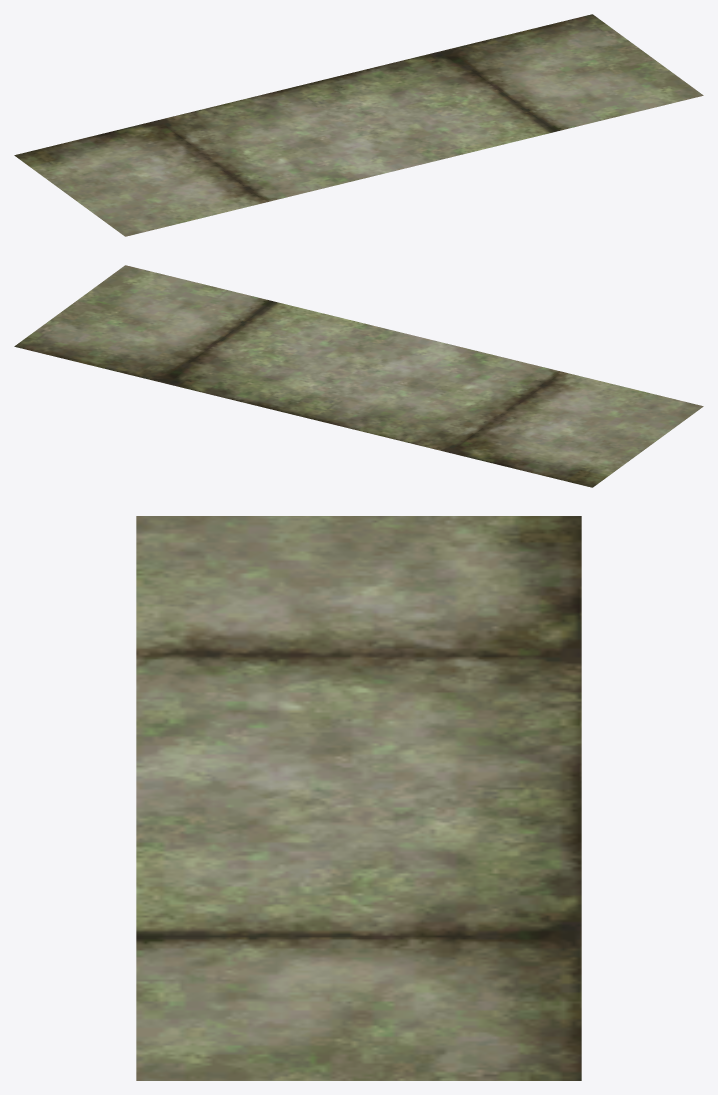
File: OVERHILL_A_01_LINE175.fbx
The picture shows the model from 3 angles, top to bottom: view 1: azimuth 30°, elevation 25°; view 2: azimuth 150°, elevation 25°; view 3: azimuth 270°, elevation 25°; orthographic projection. The views are drawn at different scales.
Visible parts, largest first — view 1: OVERHILL_A_01_LINE175; view 2: OVERHILL_A_01_LINE175; view 3: OVERHILL_A_01_LINE175.
Boxes of the visible parts, x1,y1,x2,y2 form: OVERHILL_A_01_LINE175: (14, 14, 703, 236); OVERHILL_A_01_LINE175: (14, 265, 703, 487); OVERHILL_A_01_LINE175: (136, 516, 581, 1080).
Size of the model in its own units: 30000 by 0.00163 by 10000.
Materials: 1 (1 with a texture image).
